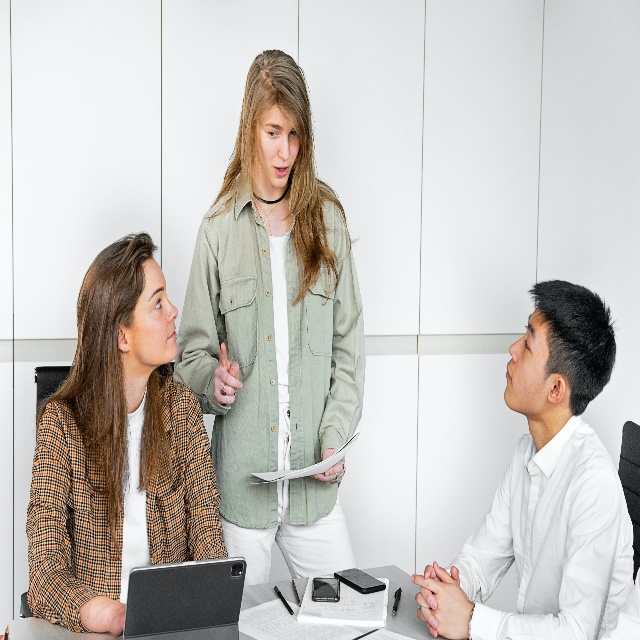Sin_guantes: (411, 559, 473, 640), (214, 340, 242, 402), (309, 451, 346, 484)
